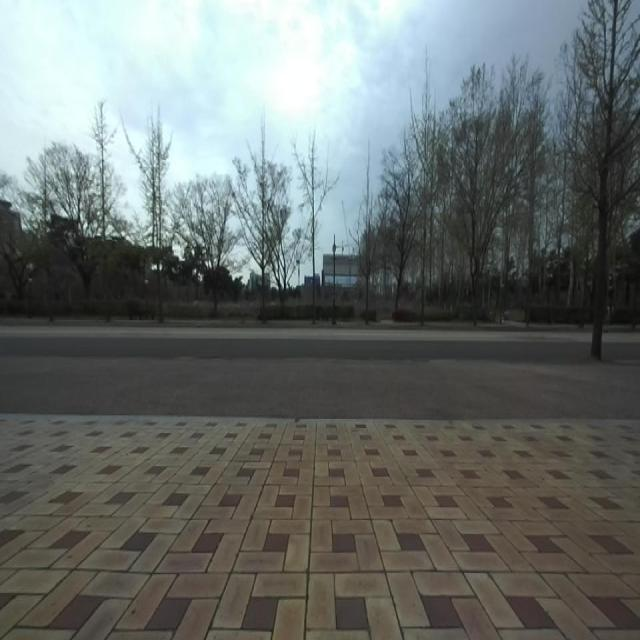sidewalk: (0, 356, 640, 419)
